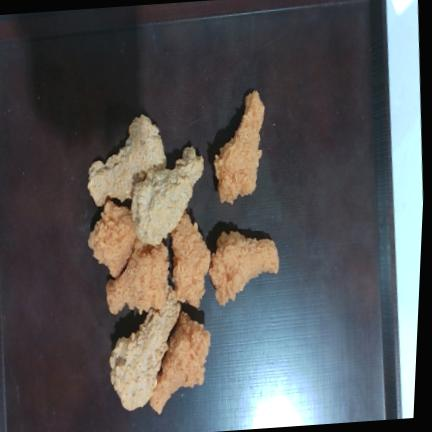chicken: (110, 285, 180, 409), (88, 114, 166, 206), (131, 147, 203, 244), (149, 311, 210, 414), (214, 90, 264, 203), (209, 231, 278, 305), (107, 238, 169, 313), (171, 212, 210, 307), (88, 200, 136, 276)
